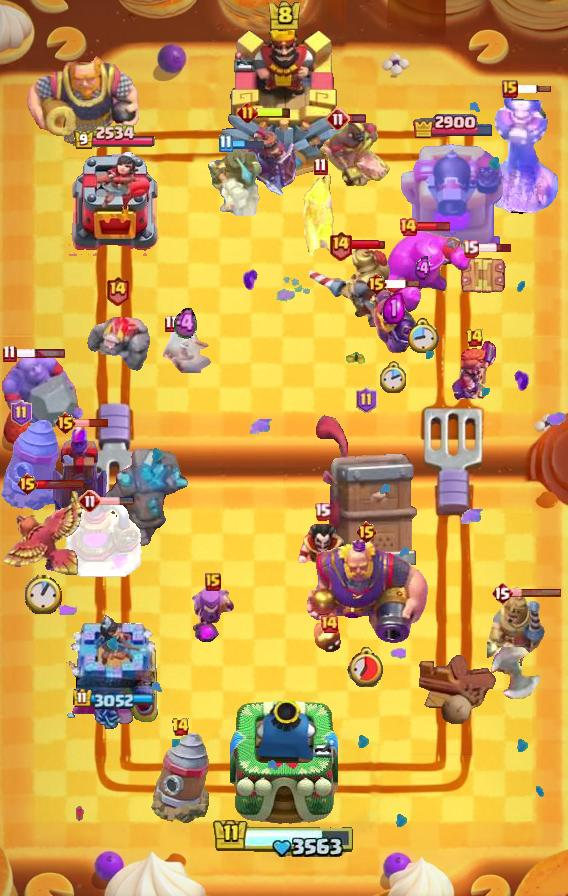archer-queen: (0, 350, 86, 430)
bomb-tower: (301, 171, 339, 269)
bomber: (314, 623, 344, 655)
cannoneer-tower: (100, 448, 190, 550)
clock: (212, 818, 356, 860)
clone: (373, 230, 473, 314)
dart-goblin: (314, 414, 418, 573)
electro-dragon: (482, 92, 560, 220)
electro-spirit: (175, 307, 198, 341), (383, 293, 405, 323), (414, 255, 432, 280)
elixir: (346, 646, 385, 687), (26, 573, 63, 614), (407, 319, 439, 353), (380, 361, 408, 395)
elixir-golem-big: (227, 116, 299, 200)
emote: (14, 348, 66, 359), (511, 586, 563, 597), (36, 479, 86, 490), (256, 105, 292, 119), (475, 242, 512, 254), (350, 239, 386, 251), (231, 138, 266, 150), (417, 220, 452, 231), (516, 84, 552, 94), (385, 279, 421, 289), (99, 496, 135, 506), (75, 418, 110, 428), (349, 112, 368, 123)
firecracker-evolution: (369, 289, 419, 355)
freeze: (317, 123, 393, 189)
giant-skeleton: (25, 51, 141, 151)
goblin-brawler: (459, 253, 509, 299)
golden-knight: (2, 488, 84, 576)
ice-spirit-evolution-symbol: (48, 423, 110, 519)
inferno-dragon: (206, 140, 264, 216)
king-tower: (219, 23, 349, 181), (230, 698, 338, 826)
lightning: (303, 539, 429, 645)
lumberjack: (297, 524, 347, 576)
magic-archer: (0, 418, 60, 512), (150, 731, 210, 825)
pekka: (65, 497, 143, 579)
queen-tower: (65, 614, 162, 730), (69, 152, 159, 256)
ram-rider: (301, 244, 407, 328), (487, 592, 547, 676)
rascal-girl: (190, 586, 236, 648)
royal-giant: (478, 647, 544, 699)
selected: (413, 112, 496, 138), (72, 125, 155, 151), (73, 687, 155, 709)
tesla: (158, 321, 212, 373)
tesla-evolution: (450, 341, 498, 401)
text: (328, 231, 353, 262), (105, 275, 130, 306), (326, 107, 350, 131), (78, 489, 102, 513), (365, 272, 388, 296), (54, 411, 77, 435), (17, 472, 40, 496), (354, 520, 377, 544), (355, 387, 376, 413), (11, 400, 32, 426), (491, 581, 513, 605), (238, 101, 259, 123), (398, 217, 418, 237), (464, 328, 484, 348), (319, 614, 339, 634), (170, 717, 189, 737), (462, 239, 479, 258), (313, 503, 330, 522), (502, 80, 518, 98), (205, 573, 221, 591), (218, 134, 233, 153), (3, 344, 18, 363), (312, 157, 327, 175), (165, 315, 179, 333)
tower-bar: (399, 138, 507, 256)
valkyrie-evolution: (83, 311, 151, 371)
